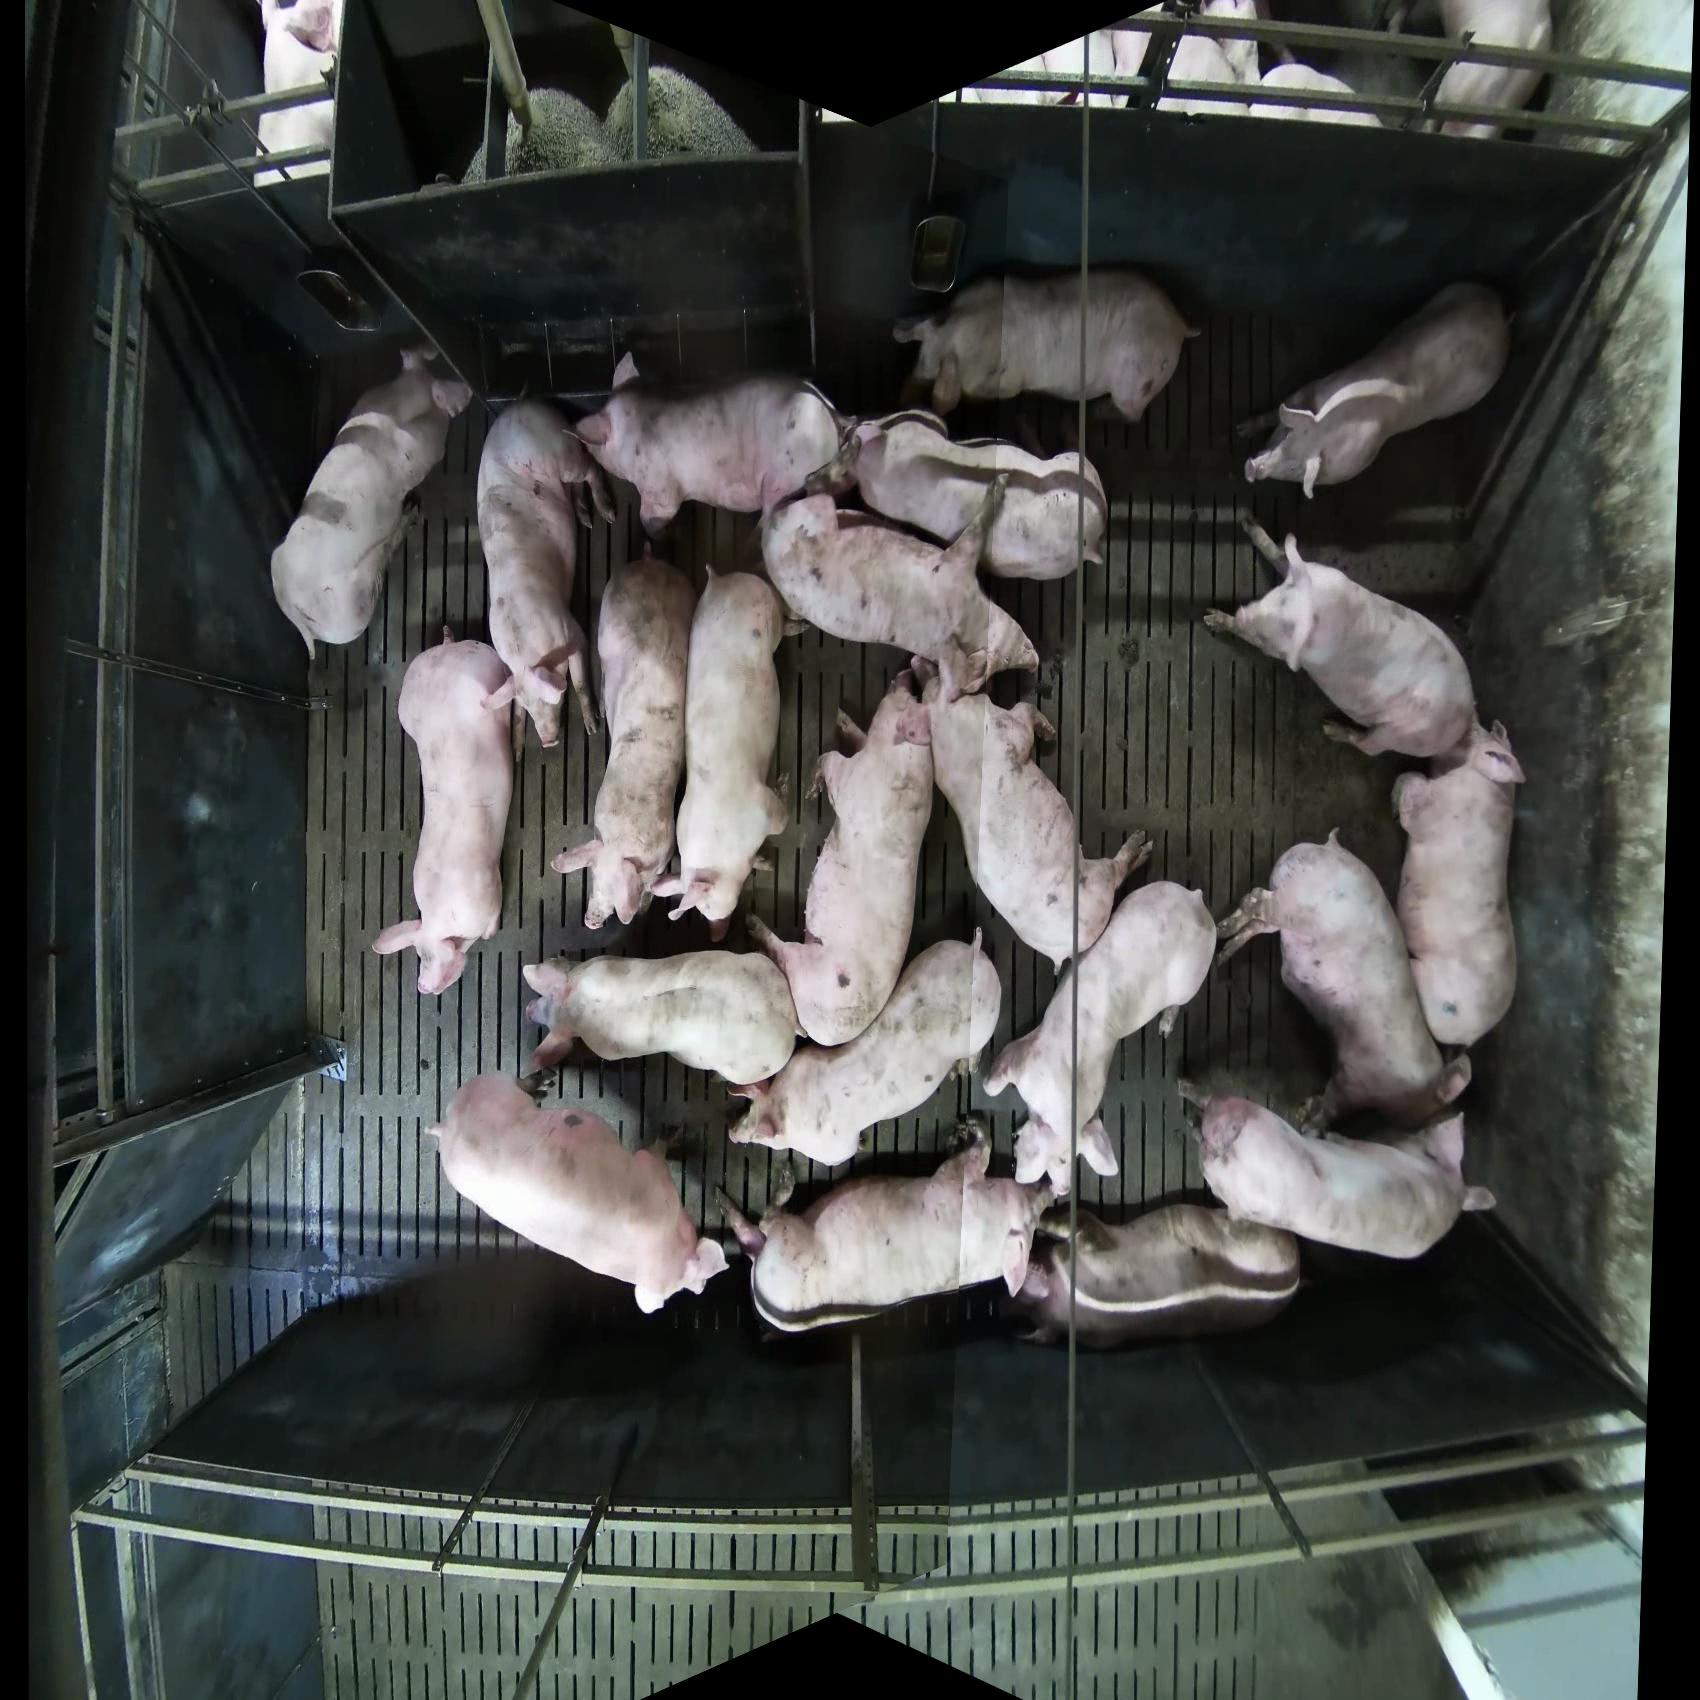pig: (1214, 827, 1474, 1135), (917, 637, 1155, 971), (422, 1070, 730, 1315), (982, 880, 1219, 1197), (746, 663, 939, 1049), (719, 1119, 1057, 1336), (1202, 511, 1480, 764), (722, 926, 1003, 1168), (269, 346, 473, 665), (758, 483, 1043, 701), (1242, 279, 1512, 501), (1182, 1084, 1498, 1261), (550, 553, 696, 933), (371, 635, 522, 996), (651, 567, 796, 933), (573, 352, 855, 536), (475, 399, 618, 750), (892, 268, 1202, 427), (845, 409, 1108, 582), (1392, 716, 1527, 1049), (1003, 1200, 1303, 1350), (522, 947, 799, 1087), (1540, 2, 1695, 159), (1255, 2, 1434, 131), (1417, 2, 1557, 142), (1057, 26, 1255, 120), (255, 2, 344, 187), (1250, 61, 1387, 129)
